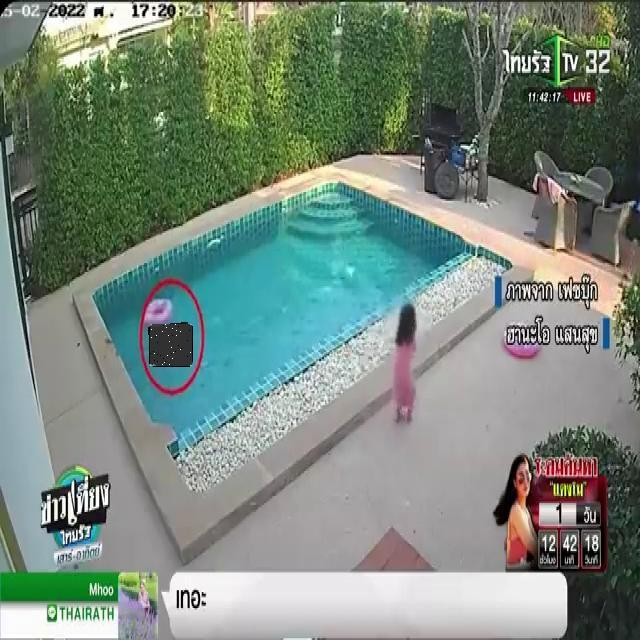Out of Water: (150, 324, 192, 366)
